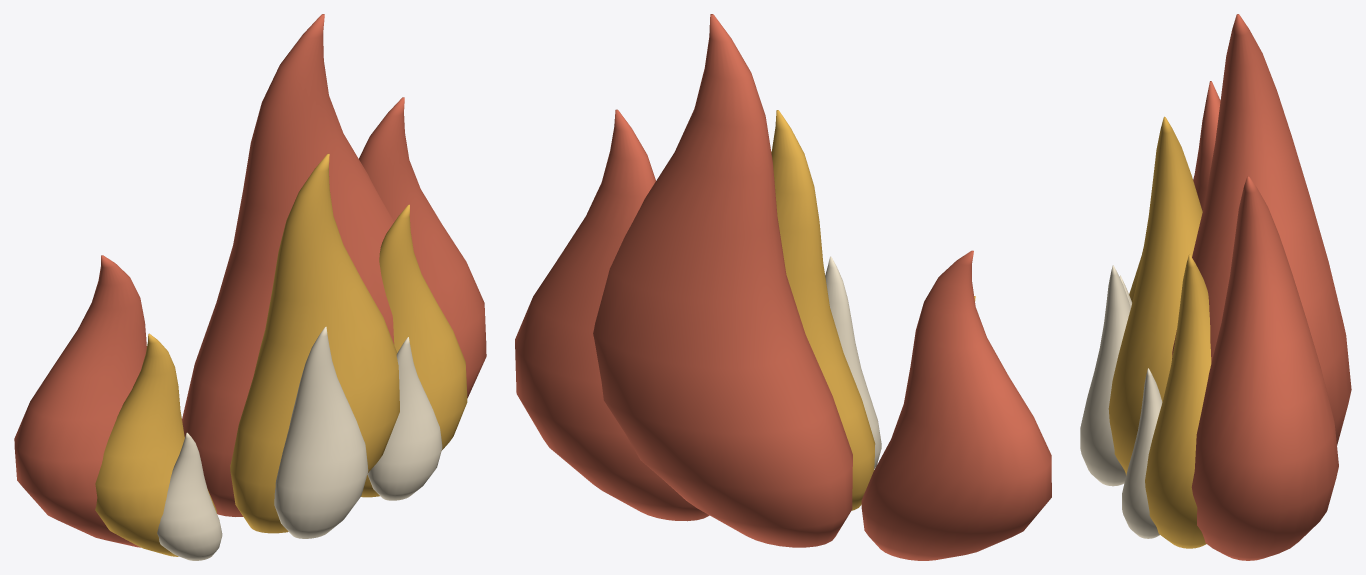
Rendered from FlameTuft.fbx.
3 renders of one model, left to right at view 1: azimuth 30°, elevation 25°; view 2: azimuth 150°, elevation 25°; view 3: azimuth 270°, elevation 25°, orthographic. The views are drawn at different scales.
Parts seen in each view (by area): view 1: EmberShell_0, GoldFlame_0, EmberShell_1, WarmHeart_0, GoldFlame_1, EmberShell_2, GoldFlame_2, WarmHeart_2, WarmHeart_1; view 2: EmberShell_0, EmberShell_1, EmberShell_2, GoldFlame_0, WarmHeart_0; view 3: EmberShell_2, EmberShell_0, GoldFlame_0, GoldFlame_2, WarmHeart_0, WarmHeart_2, EmberShell_1.
Boxes of the visible parts, bbox=[...] form: EmberShell_0: bbox=[182, 14, 394, 516]; GoldFlame_0: bbox=[230, 153, 399, 533]; EmberShell_1: bbox=[14, 255, 146, 547]; WarmHeart_0: bbox=[274, 326, 368, 538]; GoldFlame_1: bbox=[95, 333, 216, 556]; EmberShell_2: bbox=[359, 97, 486, 398]; GoldFlame_2: bbox=[361, 204, 467, 497]; WarmHeart_2: bbox=[367, 337, 442, 500]; WarmHeart_1: bbox=[157, 432, 222, 560]; EmberShell_0: bbox=[593, 14, 852, 547]; EmberShell_1: bbox=[861, 250, 1051, 560]; EmberShell_2: bbox=[515, 109, 709, 521]; GoldFlame_0: bbox=[771, 110, 875, 510]; WarmHeart_0: bbox=[825, 256, 881, 468]; EmberShell_2: bbox=[1191, 176, 1338, 560]; EmberShell_0: bbox=[1172, 14, 1351, 445]; GoldFlame_0: bbox=[1108, 116, 1202, 475]; GoldFlame_2: bbox=[1145, 254, 1211, 548]; WarmHeart_0: bbox=[1080, 265, 1130, 486]; WarmHeart_2: bbox=[1122, 368, 1162, 538]; EmberShell_1: bbox=[1193, 81, 1220, 211].
Bounding box in the file's own units: 88.4 × 83 × 39.97.
